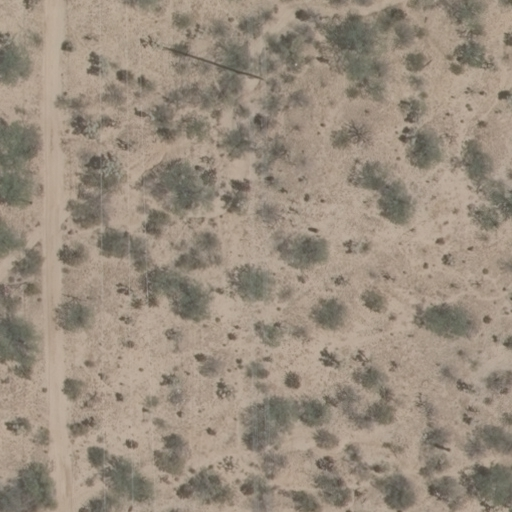DT: (237, 62, 279, 89)
